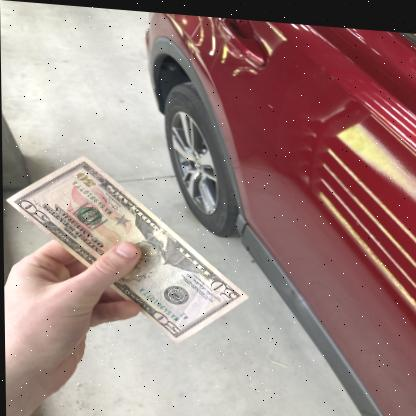fifty-front: (2, 155, 248, 344)
